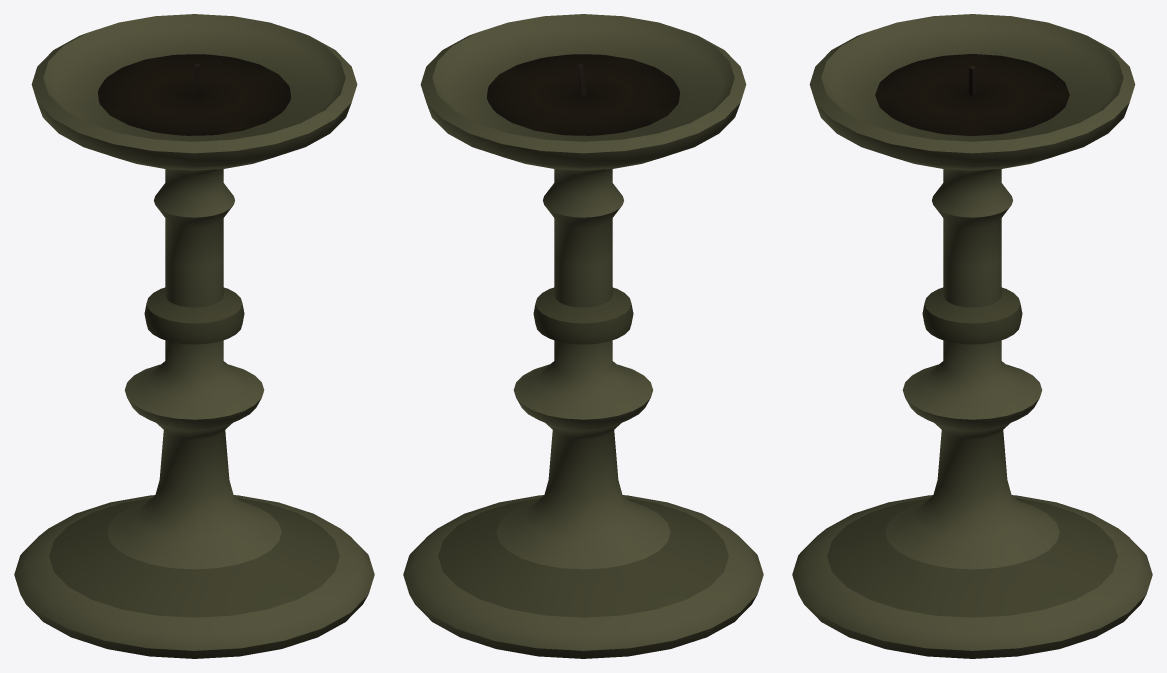
The model's file is lamp-bronze.glb.
3 views of the same model, side by side, from view 1: azimuth 30°, elevation 25°; view 2: azimuth 150°, elevation 25°; view 3: azimuth 270°, elevation 25° (orthographic).
Visible parts, largest first — view 1: base; view 2: base; view 3: base.
Part boxes in pixels (left/top/right/bottom): base: left=14, top=14, right=374, bottom=658; base: left=403, top=14, right=763, bottom=658; base: left=792, top=14, right=1152, bottom=658.
Size of the model in its own units: 0.124 by 0.1971 by 0.124.
